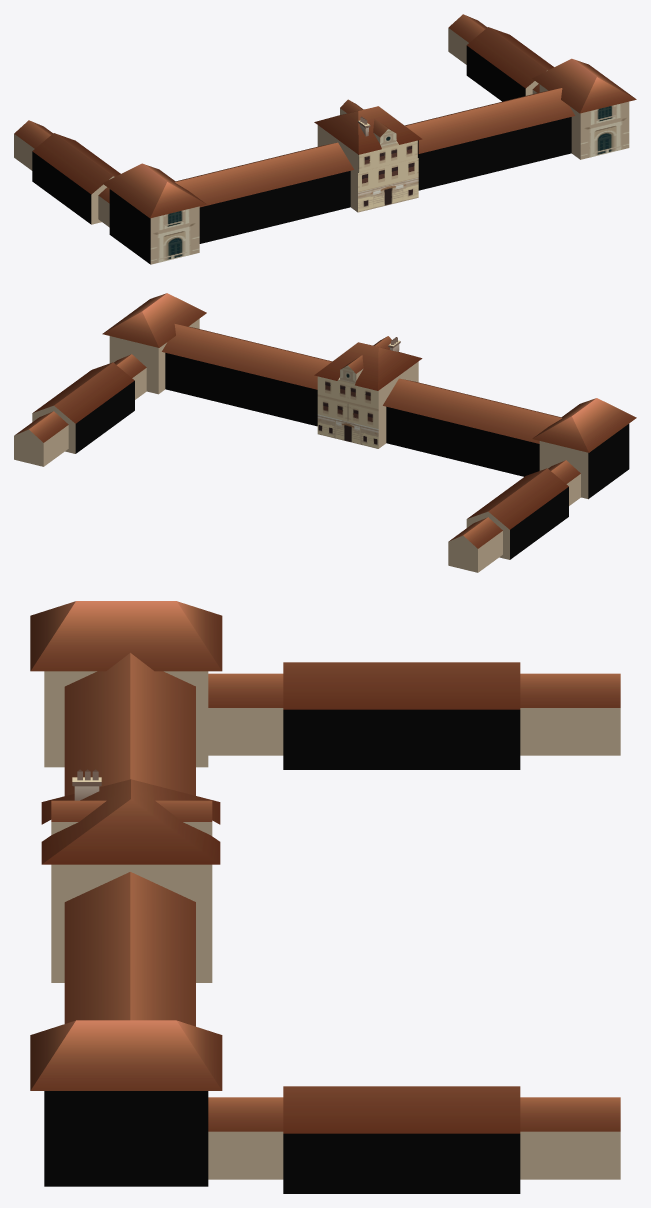
Rendered from SM_GirlsHighSchool_01.fbx.
The picture shows the model from 3 angles, top to bottom: view 1: azimuth 30°, elevation 25°; view 2: azimuth 150°, elevation 25°; view 3: azimuth 270°, elevation 25°; orthographic projection. The views are drawn at different scales.
Visible parts, largest first — view 1: SM_GirlsHighSchool_01; view 2: SM_GirlsHighSchool_01; view 3: SM_GirlsHighSchool_01.
Part boxes in pixels (<box>): SM_GirlsHighSchool_01: <box>14,14,636,264</box>; SM_GirlsHighSchool_01: <box>14,293,636,572</box>; SM_GirlsHighSchool_01: <box>30,601,620,1193</box>.
Size of the model in its own units: 128 by 21.94 by 67.07.
